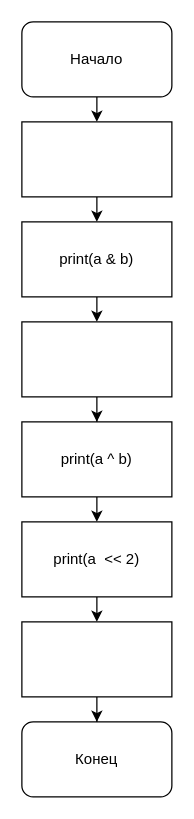
This 194x819 diagram has some shape labels left out. Here are the shapes that lost their labels. From the top down, the box of each, then its label:
(21, 121, 172, 197): a = 5 b = 6
(21, 321, 172, 397): print(a | b)
(21, 621, 172, 697): print(a >> 2)
